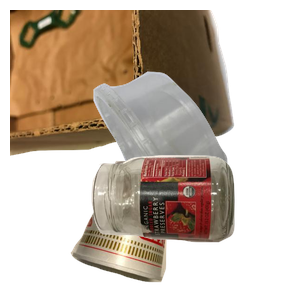cardboard: (10, 10, 237, 158)
glass: (89, 153, 300, 300)
plastic: (91, 69, 300, 249)
trash: (68, 158, 235, 300)
